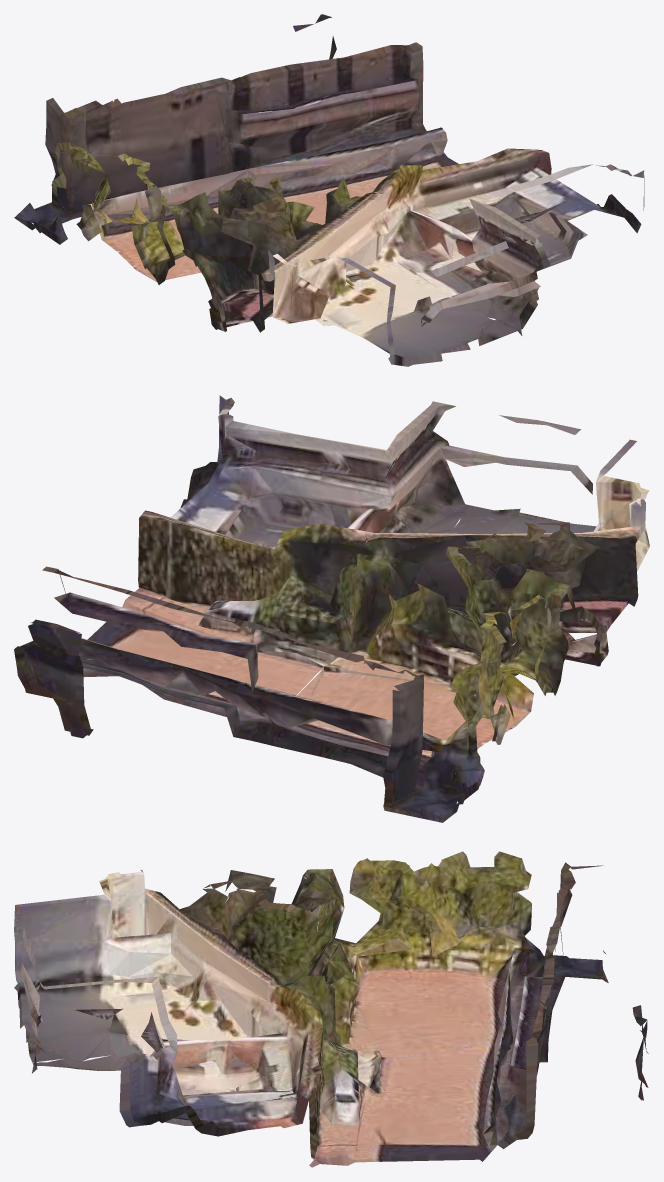
3 views of the same model, one above another, from view 1: azimuth 30°, elevation 25°; view 2: azimuth 150°, elevation 25°; view 3: azimuth 270°, elevation 25° (orthographic). The views are drawn at different scales.
Visible parts, largest first — view 1: Mesh_0; view 2: Mesh_0; view 3: Mesh_0.
Boxes of the visible parts, left/top/right/bottom form: Mesh_0: left=14, top=14, right=644, bottom=366; Mesh_0: left=14, top=395, right=649, bottom=822; Mesh_0: left=14, top=851, right=648, bottom=1167.
Bounding box in the file's own units: 32.86 × 10.3 × 40.81.
Materials: 2 (2 with a texture image).
